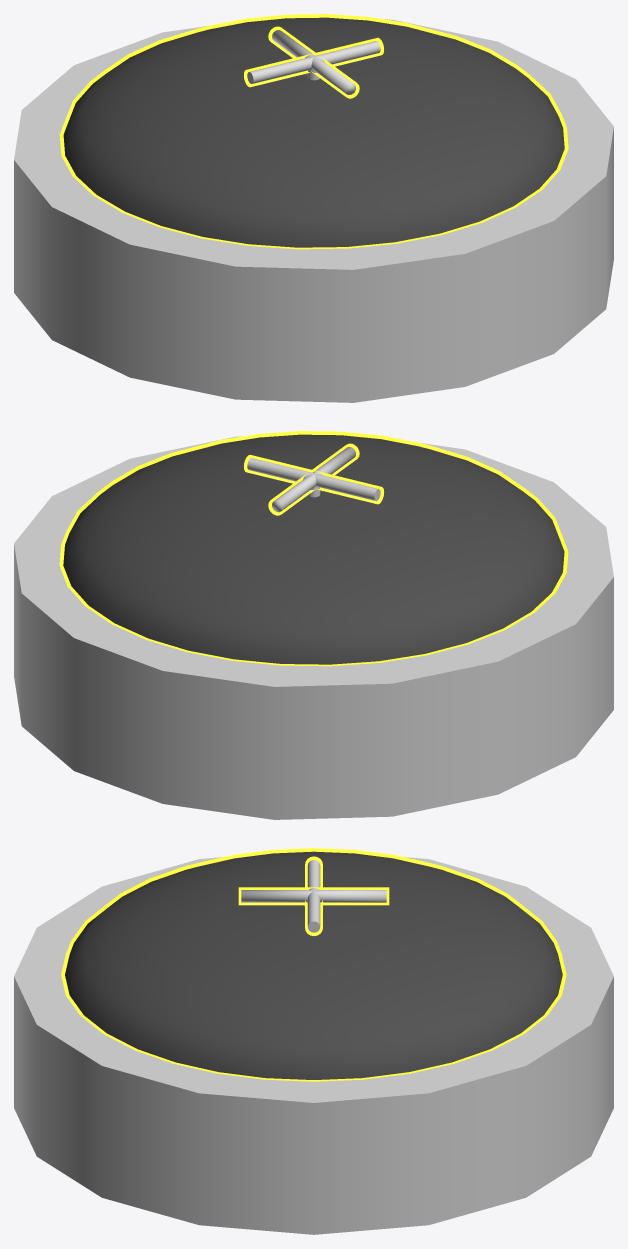
File: bunker.glb
3 renders of one model, top to bottom at view 1: azimuth 30°, elevation 25°; view 2: azimuth 150°, elevation 25°; view 3: azimuth 270°, elevation 25°, orthographic.
Visible parts, largest first — view 1: Bunker, Bunker_highlight; view 2: Bunker, Bunker_highlight; view 3: Bunker, Bunker_highlight.
Boxes of the visible parts, x1=… form: Bunker: x1=14, y1=17, x2=613, y2=402; Bunker_highlight: x1=59, y1=14, x2=568, y2=249; Bunker: x1=14, y1=434, x2=613, y2=819; Bunker_highlight: x1=59, y1=431, x2=568, y2=666; Bunker: x1=14, y1=851, x2=613, y2=1234; Bunker_highlight: x1=61, y1=848, x2=566, y2=1081.
Bounding box in the file's own units: 8.25 × 3.33 × 8.25.
